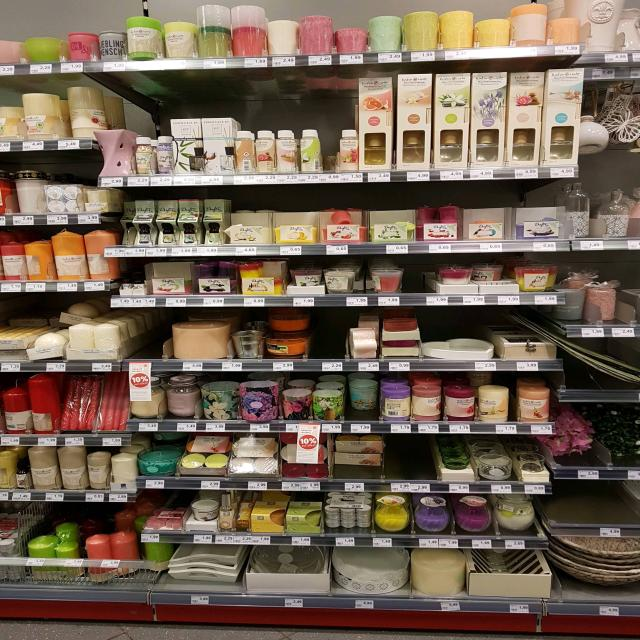empty: (304, 303, 352, 371), (386, 433, 437, 490)
